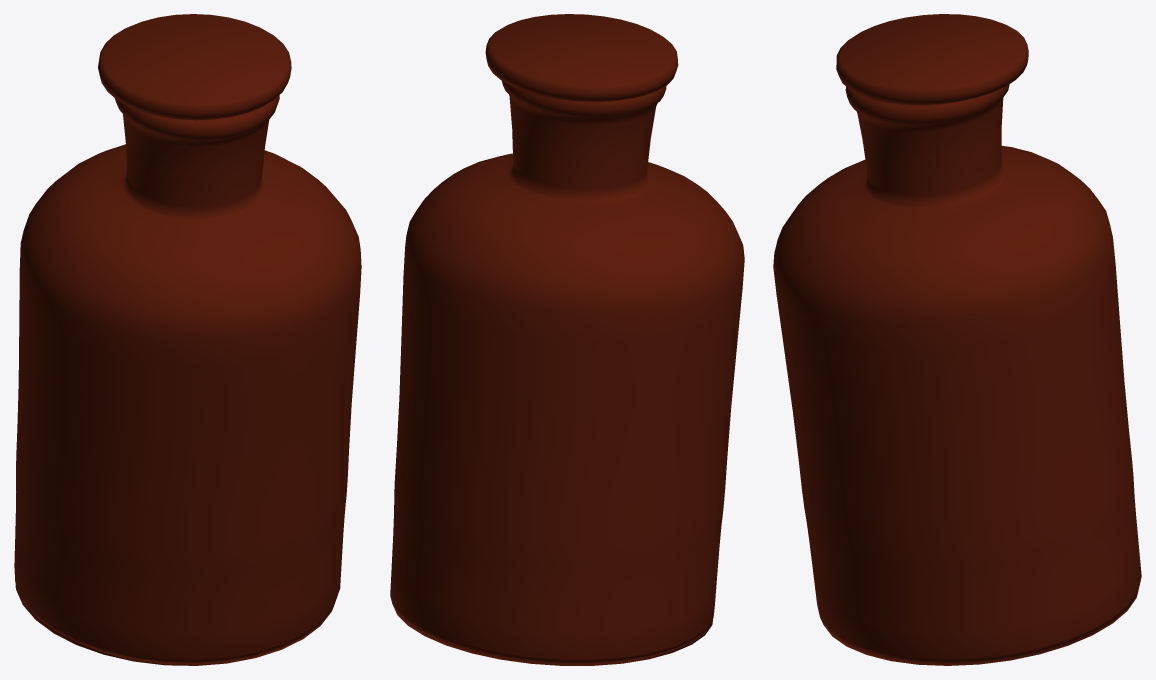
File: 棕色试剂瓶.fbx
The picture shows the model from 3 angles, left to right: view 1: azimuth 30°, elevation 25°; view 2: azimuth 150°, elevation 25°; view 3: azimuth 270°, elevation 25°; orthographic projection.
Parts seen in each view (by area): view 1: Line001, Line002; view 2: Line001, Line002; view 3: Line001, Line002.
Boxes of the visible parts, box(x1,y1,x2,y2) form: Line001: box(14, 95, 361, 665); Line002: box(98, 14, 291, 120); Line001: box(390, 81, 744, 665); Line002: box(485, 14, 678, 161); Line001: box(773, 84, 1141, 665); Line002: box(836, 14, 1028, 105).
Bounding box in the file's own units: 233 × 426 × 252.
